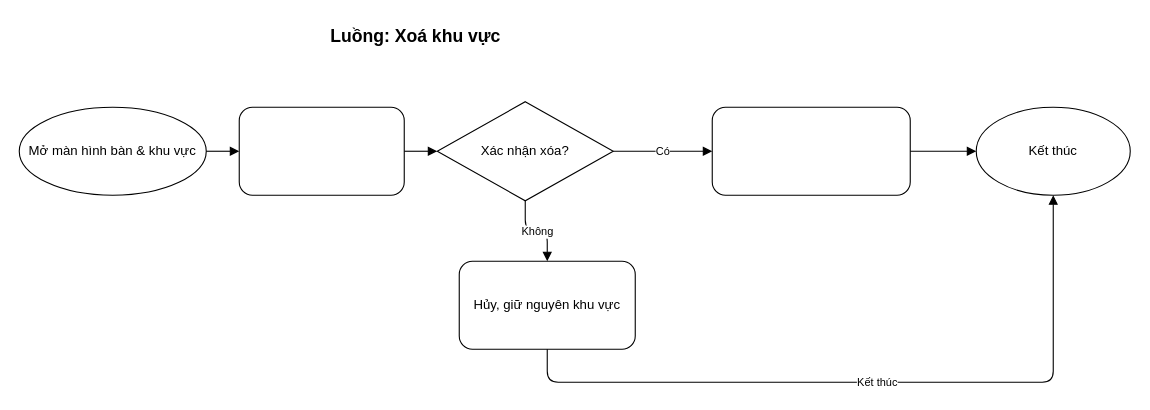
The diagram is 1150 pixels wide and 410 high, and some of its shapes have lost their labels. The centre of each missing label's shape, as x and y in pixels:
"Chọn khu vực, bấm xóa" belongs at (321,150).
"Cập nhật danh sách khu vực" belongs at (810,150).
